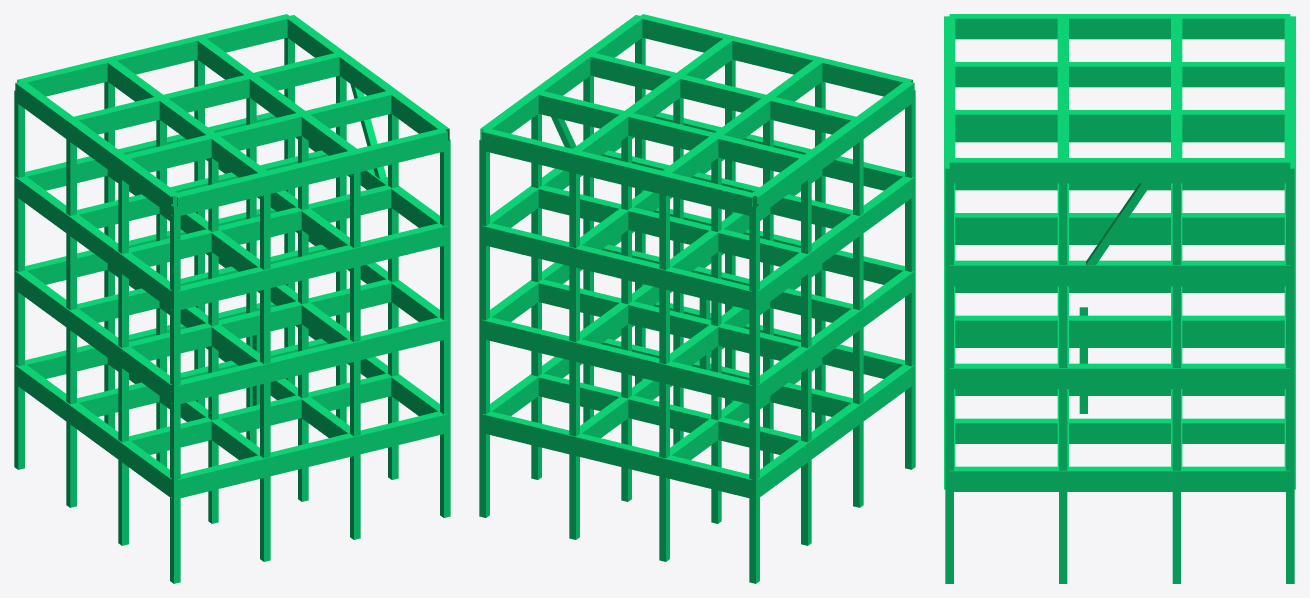
Rendered from Building.glb.
3 renders of one model, left to right at view 1: azimuth 30°, elevation 25°; view 2: azimuth 150°, elevation 25°; view 3: azimuth 270°, elevation 25°, orthographic. The views are drawn at different scales.
Visible parts, largest first — view 1: Test_building_model.v01_hull; view 2: Test_building_model.v01_hull; view 3: Test_building_model.v01_hull.
Part boxes in pixels (x1=…): Test_building_model.v01_hull: x1=14, y1=14, x2=450, y2=583; Test_building_model.v01_hull: x1=479, y1=14, x2=915, y2=583; Test_building_model.v01_hull: x1=944, y1=14, x2=1295, y2=583.
Bounding box in the file's own units: 12.4 × 16.4 × 12.4.
